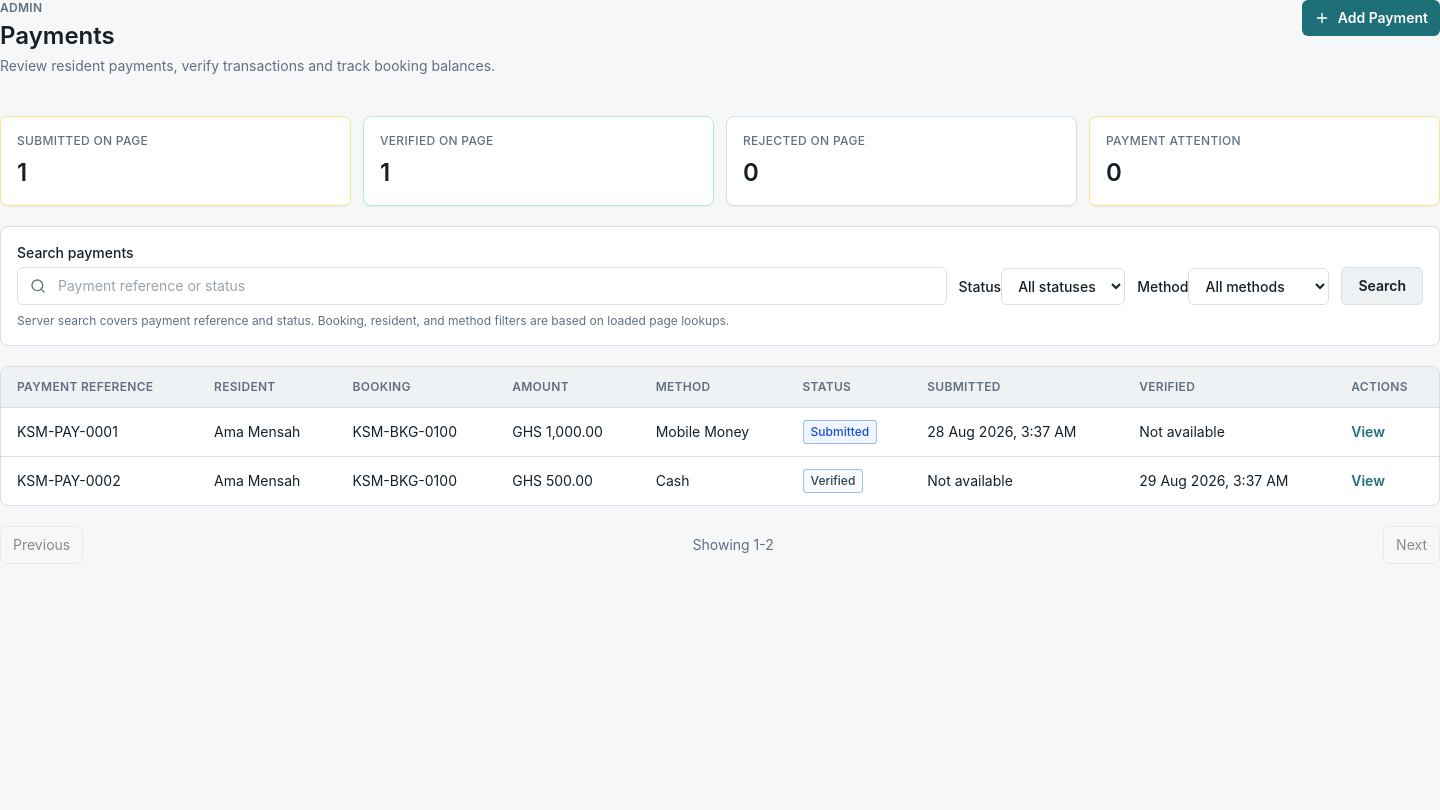
PaymentsPage › renders payment detail with backend summary, threshold, and private slip handling
Expected: the text "KSM-PAY-0001" is shown, 1,408 -> 198,456
Click the button "View" in the row of "KSM-PAY-0001".
click(1368, 432)  # box 1351,422 -> 1385,442
(page scrolled)
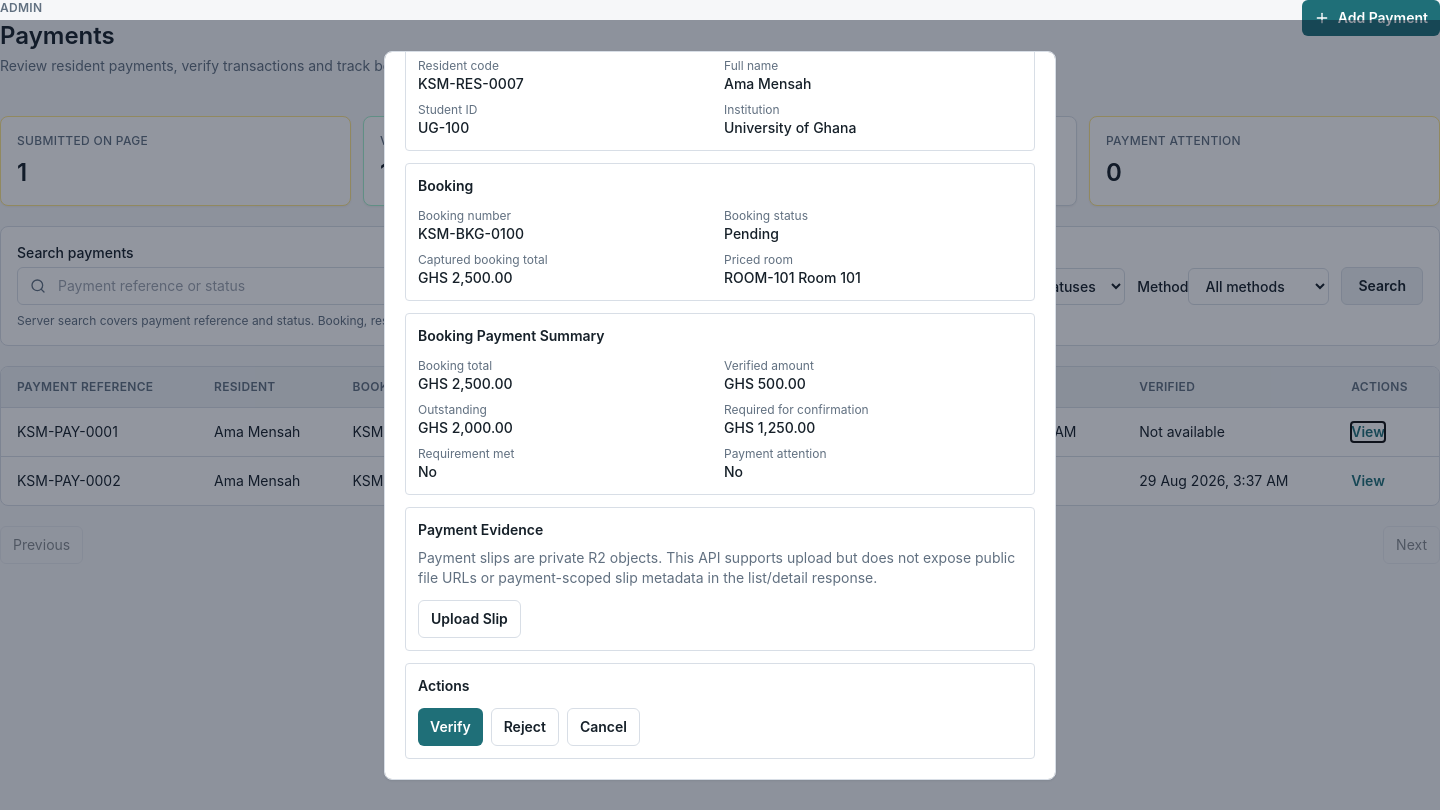
Expected: the heading "Booking Payment Summary" is shown, 418,326 -> 605,344
Expected: the text "GHS 2,500.00" below "Captured booking total" is shown, 418,268 -> 512,286
Expected: the text "GHS 2,000.00" is shown, 418,418 -> 513,436
